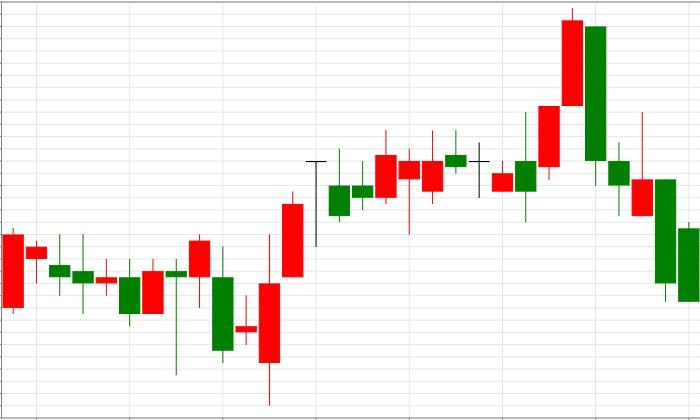evening_star_fall: (235, 149, 350, 405)
